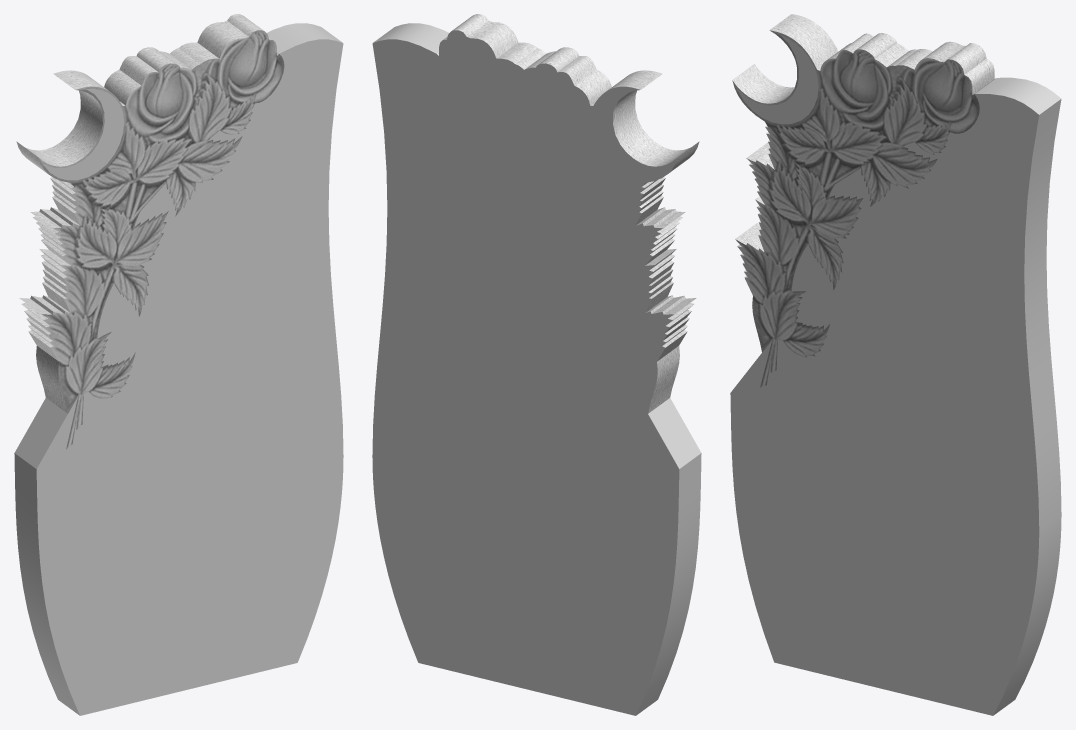
Rendered from cn4c20d643d8_tkf.glb.
3 renders of one model, left to right at view 1: azimuth 30°, elevation 25°; view 2: azimuth 150°, elevation 25°; view 3: azimuth 330°, elevation 25°, orthographic.
Parts seen in each view (by area): view 1: Pam-d03-159, Pam-d03-159_2_notexture; view 2: Pam-d03-159, Pam-d03-159_2_notexture; view 3: Pam-d03-159, Pam-d03-159_2_notexture.
Part boxes in pixels (x1,y1,x2,y2): Pam-d03-159: (14, 23, 343, 715); Pam-d03-159_2_notexture: (16, 14, 284, 449); Pam-d03-159: (372, 23, 701, 715); Pam-d03-159_2_notexture: (437, 14, 699, 413); Pam-d03-159: (730, 34, 1061, 715); Pam-d03-159_2_notexture: (732, 14, 995, 387).
Size of the model in its own units: 0.4 by 0.8 by 0.05.
Materials: 1 (1 with a texture image).
